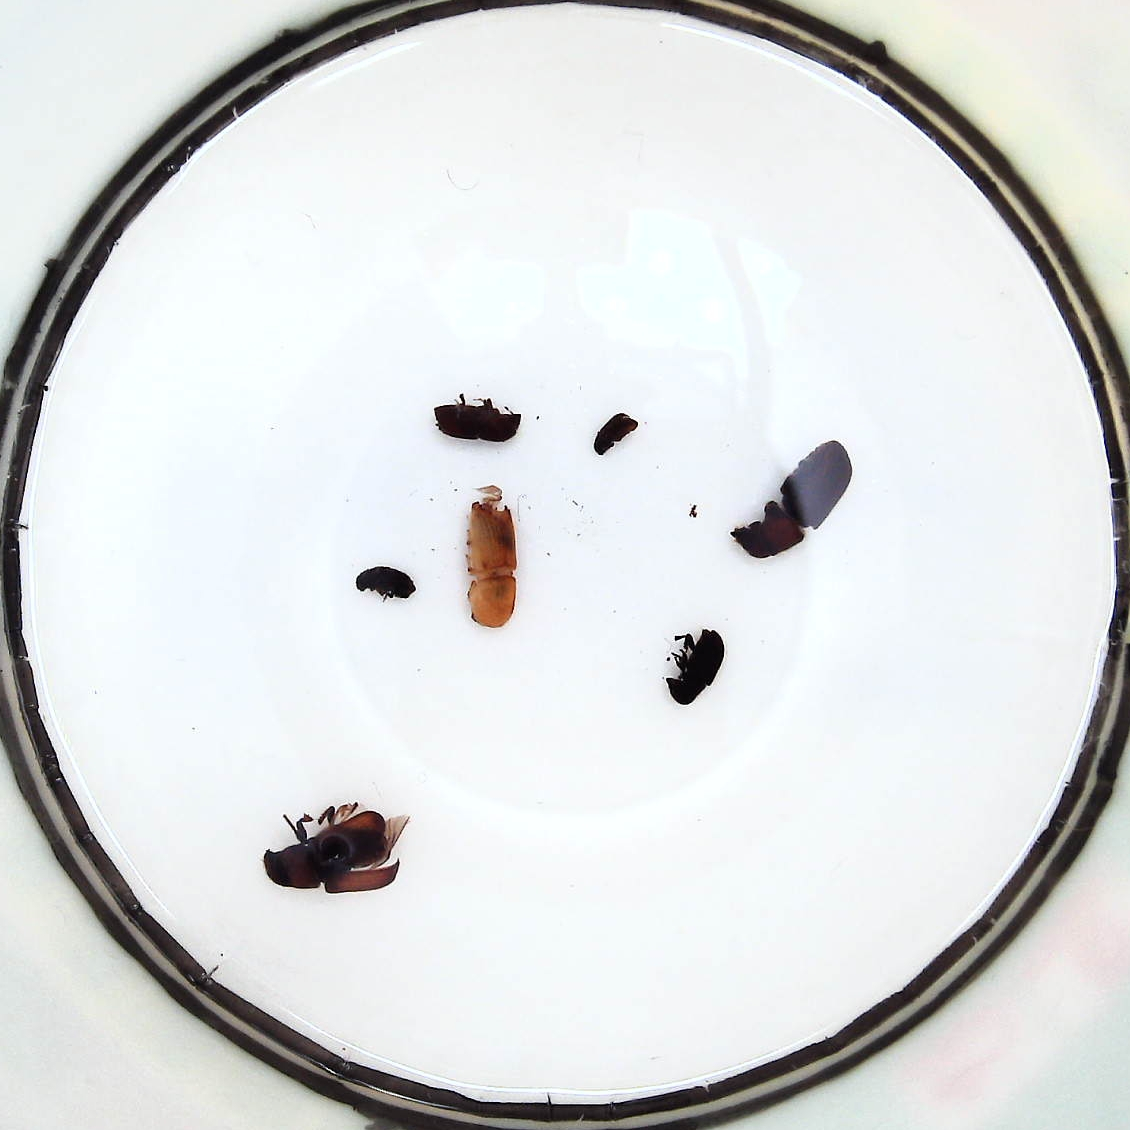Leconte: (728, 439, 853, 558), (263, 810, 400, 894)
acuminatus: (356, 565, 415, 600)
armandi: (666, 629, 724, 706)
coleoptera: (594, 413, 638, 455)
linnaeus: (465, 501, 517, 627), (433, 403, 521, 442)
